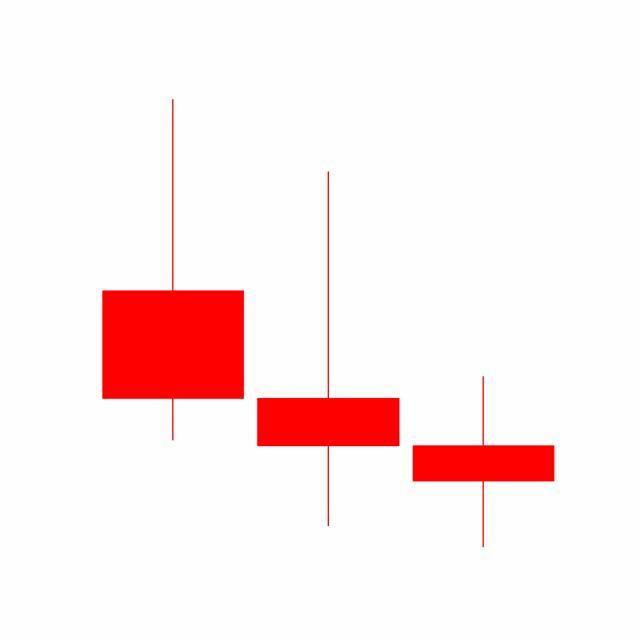Spinning Top: (250, 169, 407, 531)
